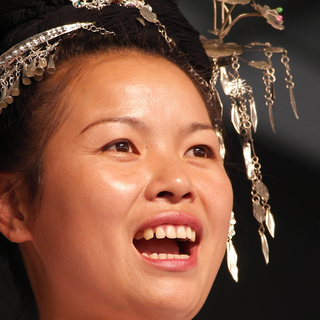eye: (94, 135, 146, 160), (178, 141, 220, 164)
